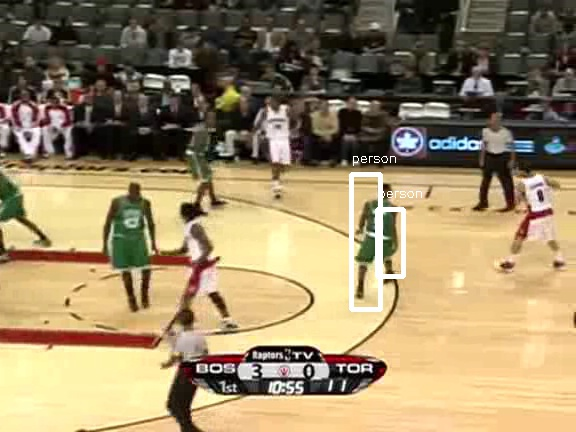person: (364, 193, 398, 274), (363, 193, 397, 274), (365, 193, 399, 274), (364, 192, 398, 273), (364, 194, 398, 275)
target_negative: (102, 45, 282, 133), (268, 252, 426, 328), (203, 190, 258, 392), (11, 382, 207, 416), (508, 240, 563, 360), (455, 289, 471, 300)
